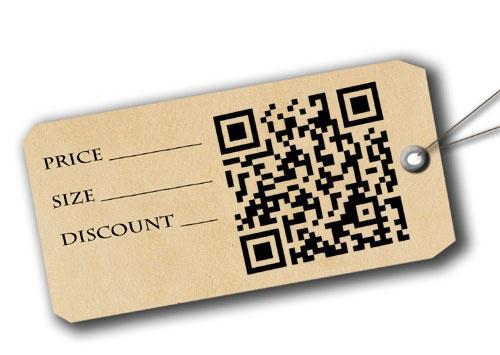Finder pattern: (236, 222, 287, 276), (333, 77, 383, 129), (207, 108, 261, 154)
